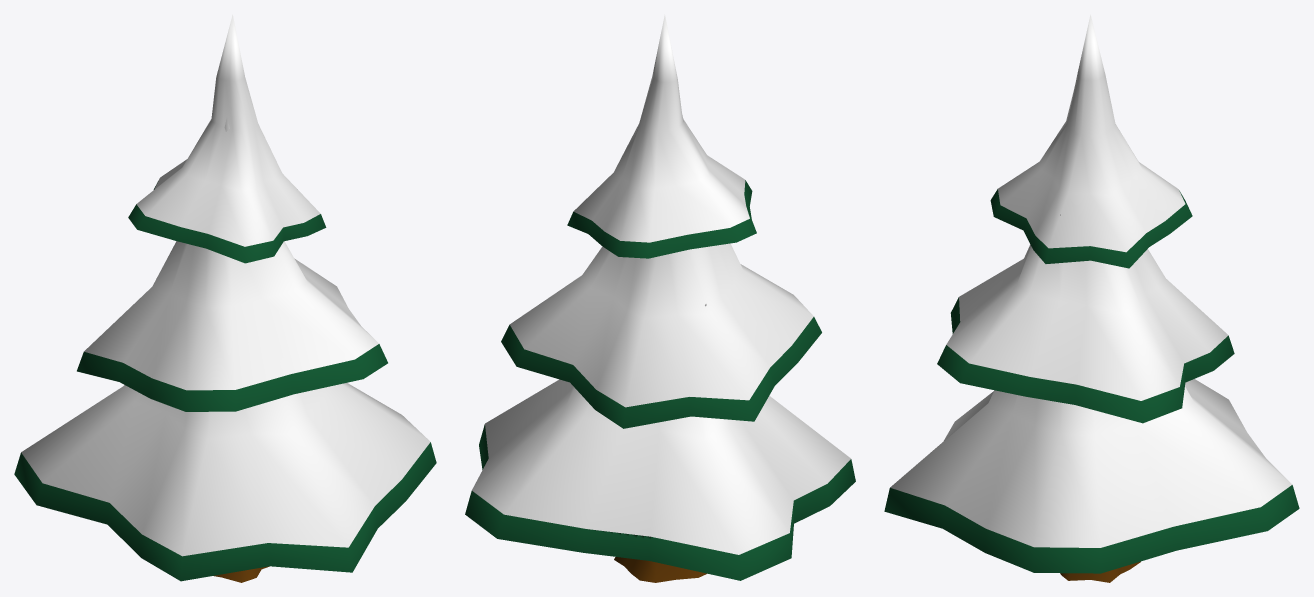
File: SnowyPine.fbx
The picture shows the model from 3 angles, left to right: view 1: azimuth 30°, elevation 25°; view 2: azimuth 150°, elevation 25°; view 3: azimuth 270°, elevation 25°; orthographic projection.
Parts seen in each view (by area): view 1: Cone; view 2: Cone, Trunk; view 3: Cone, Trunk.
Part boxes in pixels (x1=…): Cone: x1=14, y1=14, x2=436, y2=581; Cone: x1=465, y1=14, x2=855, y2=580; Trunk: x1=614, y1=557, x2=706, y2=582; Cone: x1=884, y1=14, x2=1299, y2=573; Trunk: x1=1060, y1=561, x2=1140, y2=582.
Size of the model in its own units: 823 by 1259 by 863.
1 material, 1 textured.
